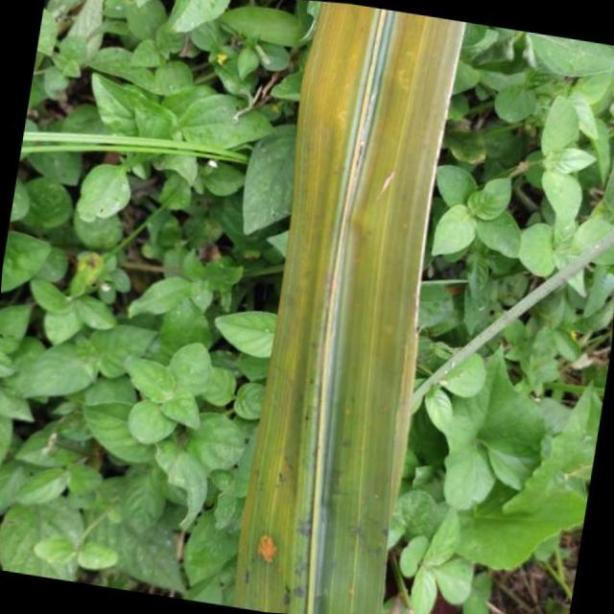Megnesium: (241, 0, 467, 614)
